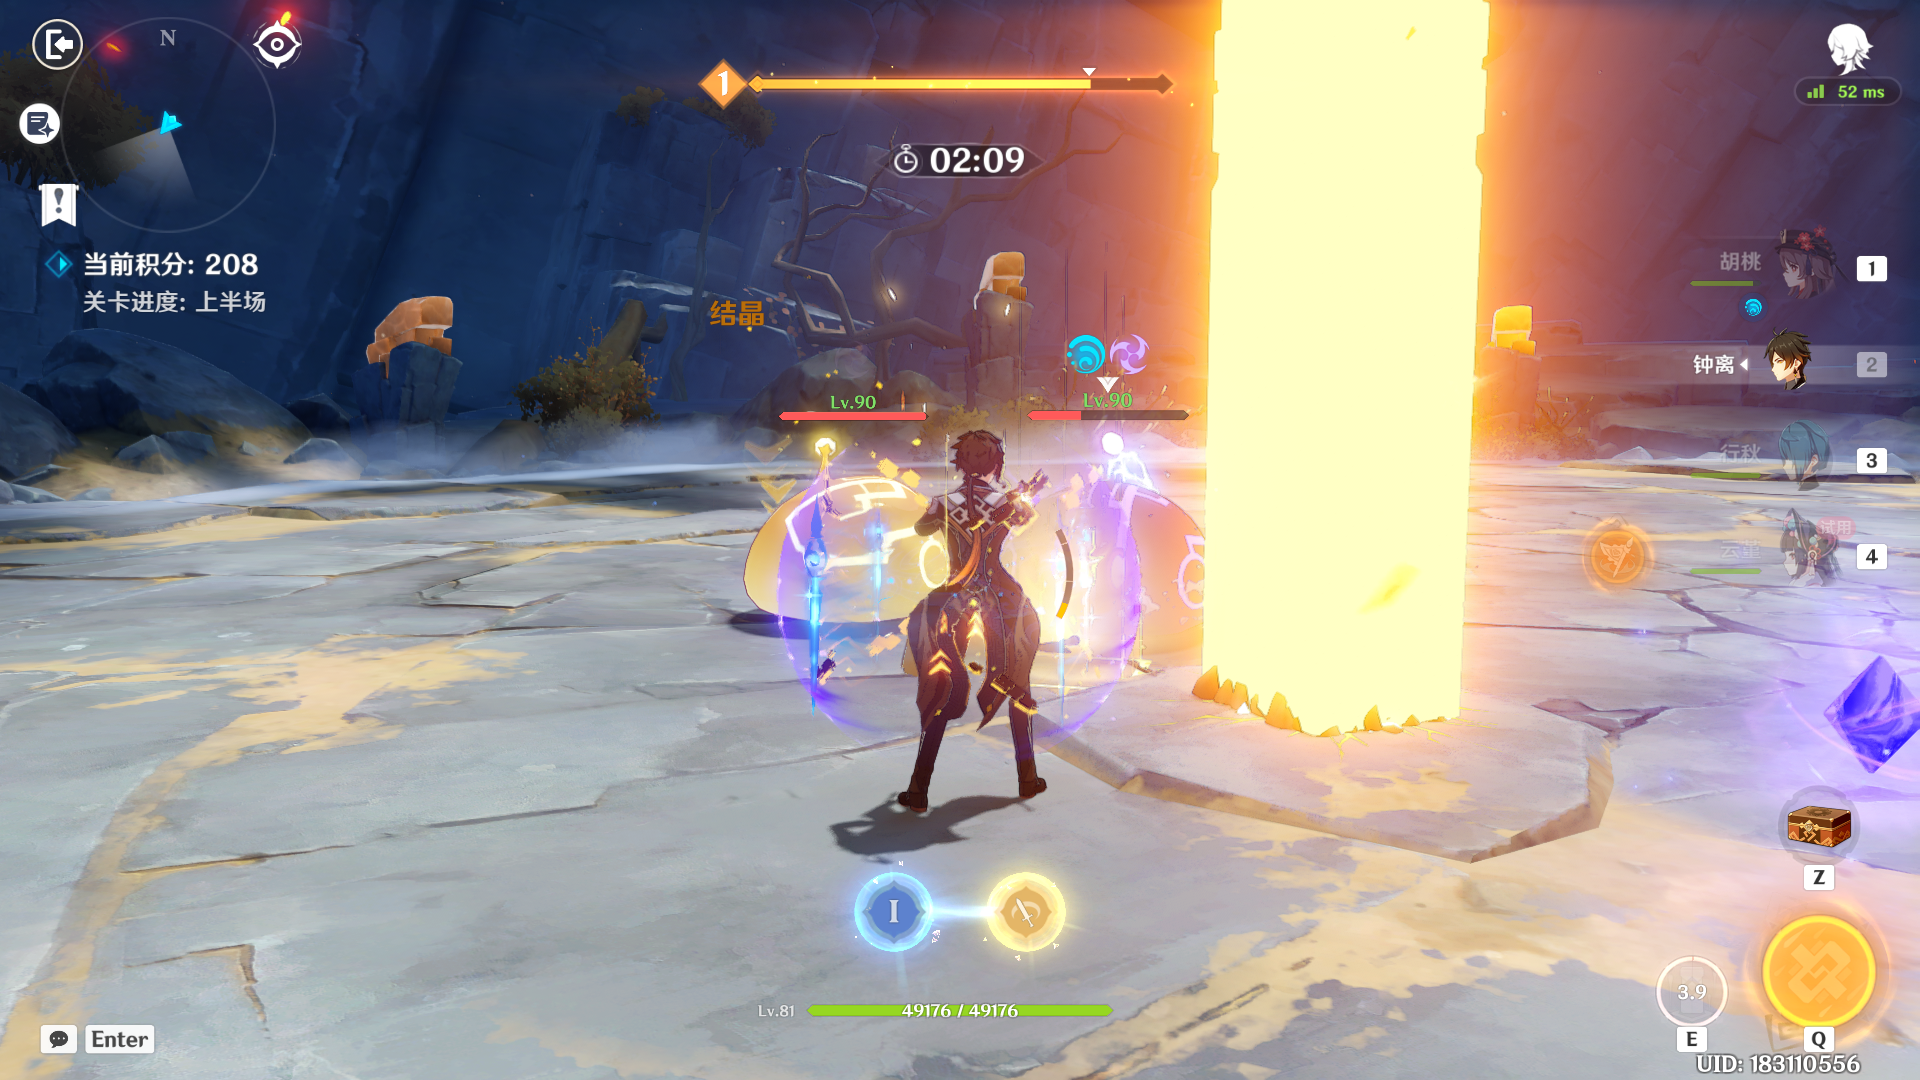character: (872, 407, 1101, 822)
slime: (988, 455, 1229, 675), (709, 444, 977, 638)
